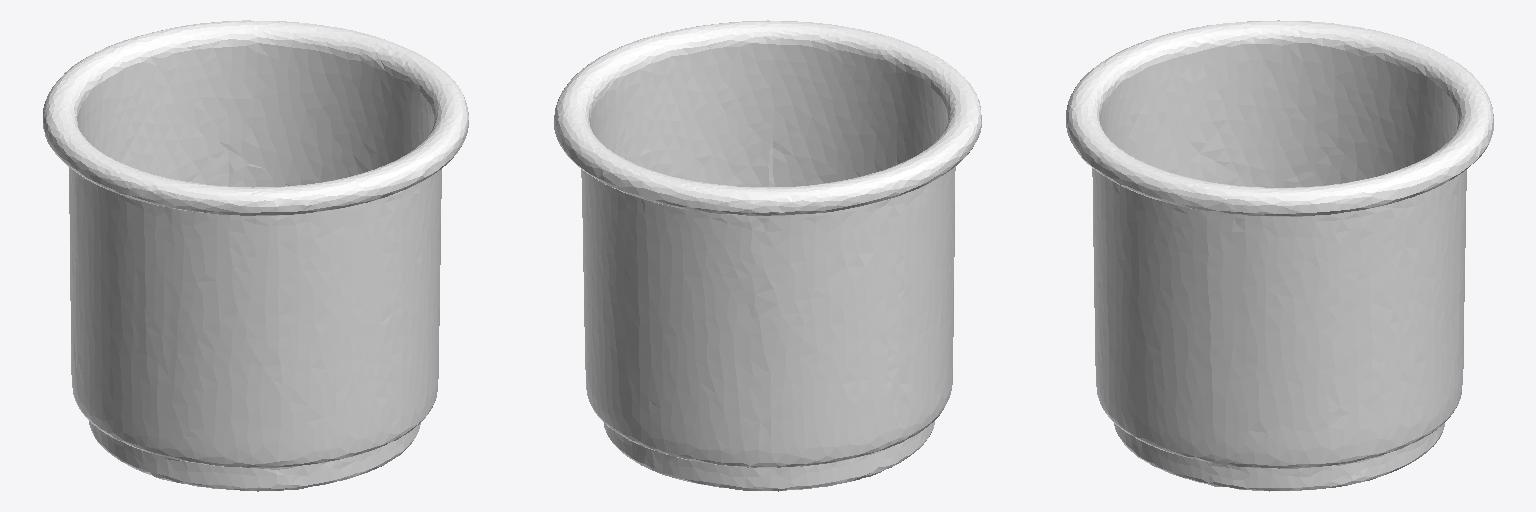
robot.urdf — h_cups:
<robot name="h_cups">
    <link name="base_link">
        <visual>
            <origin xyz="-0.0 -0.0 0.0" rpy="0.0 0.0 0.0" />
            <geometry>
                <mesh filename="h_cups/textured.obj" scale="1 1 1" />
            </geometry>
            <material name="texture">
                <color rgba="1.0 1.0 1.0 1.0" />
            </material>
        </visual>
        <collision>
            <origin xyz="-0.0 -0.0 0.0" rpy="0.0 0.0 0.0" />
            <geometry>
                <mesh filename="h_cups/textured_coacd_0.stl" scale="1 1 1" />
            </geometry>
        </collision>
        <collision>
            <origin xyz="-0.0 -0.0 0.0" rpy="0.0 0.0 0.0" />
            <geometry>
                <mesh filename="h_cups/textured_coacd_1.stl" scale="1 1 1" />
            </geometry>
        </collision>
        <collision>
            <origin xyz="-0.0 -0.0 0.0" rpy="0.0 0.0 0.0" />
            <geometry>
                <mesh filename="h_cups/textured_coacd_2.stl" scale="1 1 1" />
            </geometry>
        </collision>
        <collision>
            <origin xyz="-0.0 -0.0 0.0" rpy="0.0 0.0 0.0" />
            <geometry>
                <mesh filename="h_cups/textured_coacd_3.stl" scale="1 1 1" />
            </geometry>
        </collision>
        <collision>
            <origin xyz="-0.0 -0.0 0.0" rpy="0.0 0.0 0.0" />
            <geometry>
                <mesh filename="h_cups/textured_coacd_4.stl" scale="1 1 1" />
            </geometry>
        </collision>
        <inertial>
            <mass value="0.031" />
            <inertia ixx="1e-3" ixy="0.0" ixz="0.0" iyy="1e-3" iyz="0.0" izz="1e-3" />
        </inertial>
    </link>
</robot>

--- What the picture shows (computed from the rendered views, not written in the file) ---
Views: 3 orthographic renders of the robot side by side, from view 1: azimuth 30°, elevation 25°; view 2: azimuth 150°, elevation 25°; view 3: azimuth 270°, elevation 25°.
Model h_cups with 1 links and 0 joints (none), rooted at base_link, posed all joints at 0.
Visible links, largest first — view 1: base_link; view 2: base_link; view 3: base_link.
Link boxes in pixels (box(x1,y1,x2,y2)): base_link: box(43, 20, 468, 491); base_link: box(554, 20, 981, 491); base_link: box(1066, 20, 1493, 491).
Bounding box of the posed robot: 0.0911 × 0.0915 × 0.0749 m (x, y, z).
1 mesh visuals loaded from 1 distinct referenced files (1 OBJ).